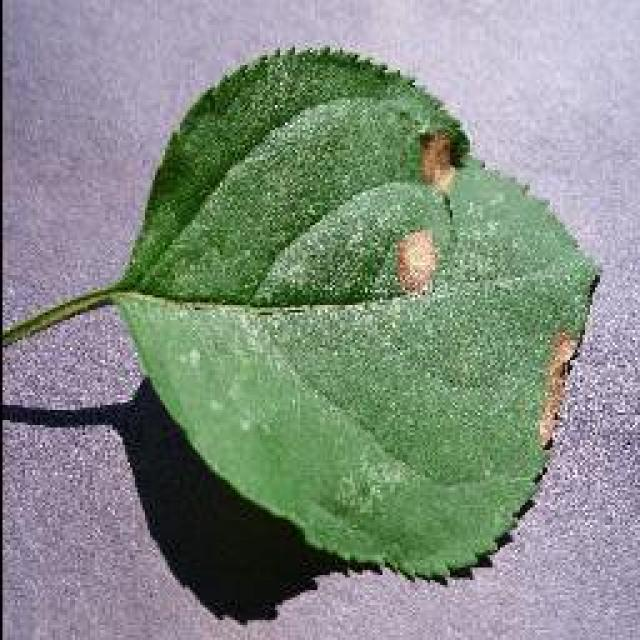Black_rot: (2, 43, 600, 585)
